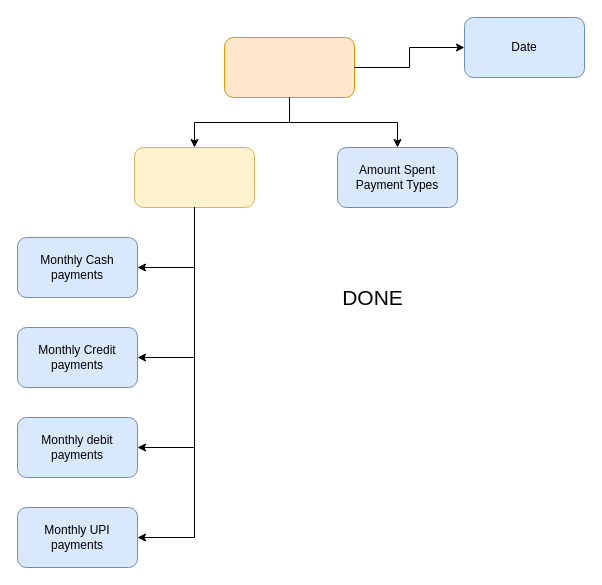
This 602x585 diagram has some shape labels left out. The centre of each missing label's shape, as x and y in pixels:
Four Info DRIVER: the point at 194,177
Payments API: the point at 289,67
